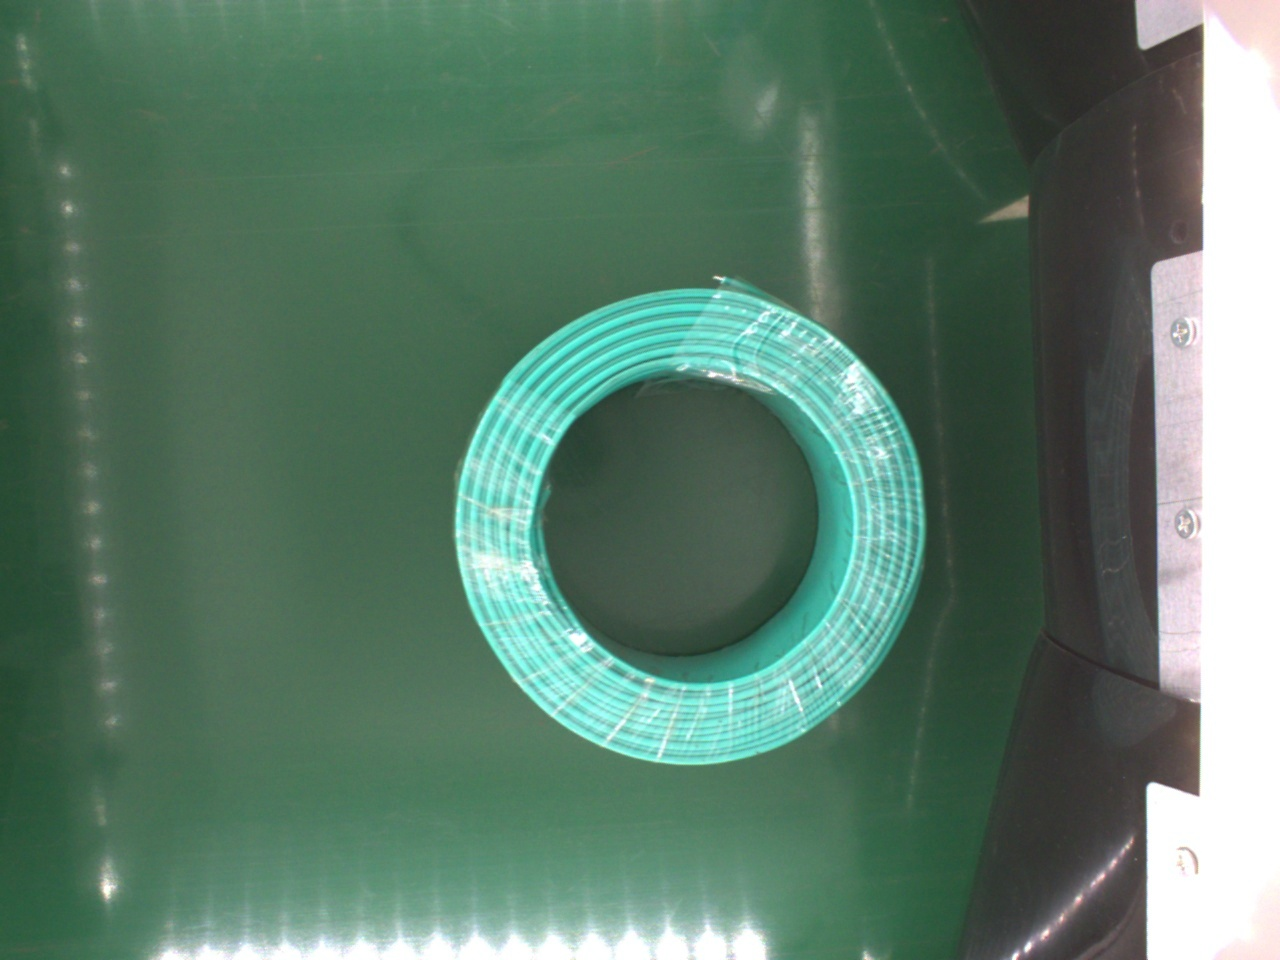green: (447, 280, 930, 774)
